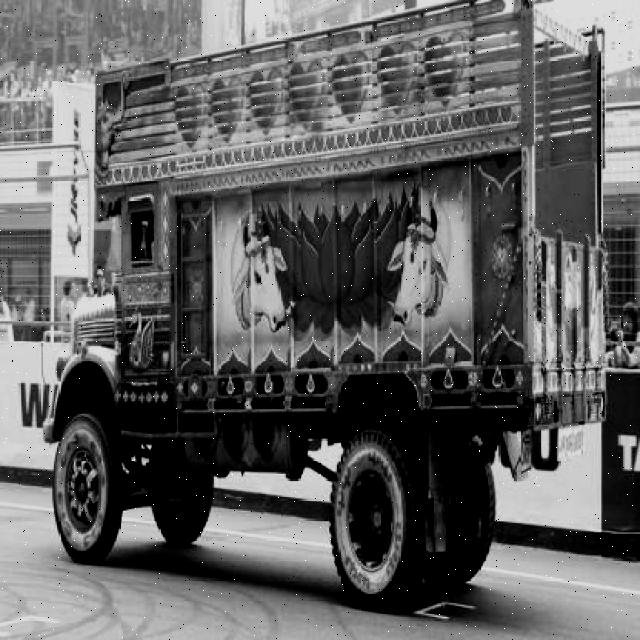HCV: (52, 23, 573, 569)
